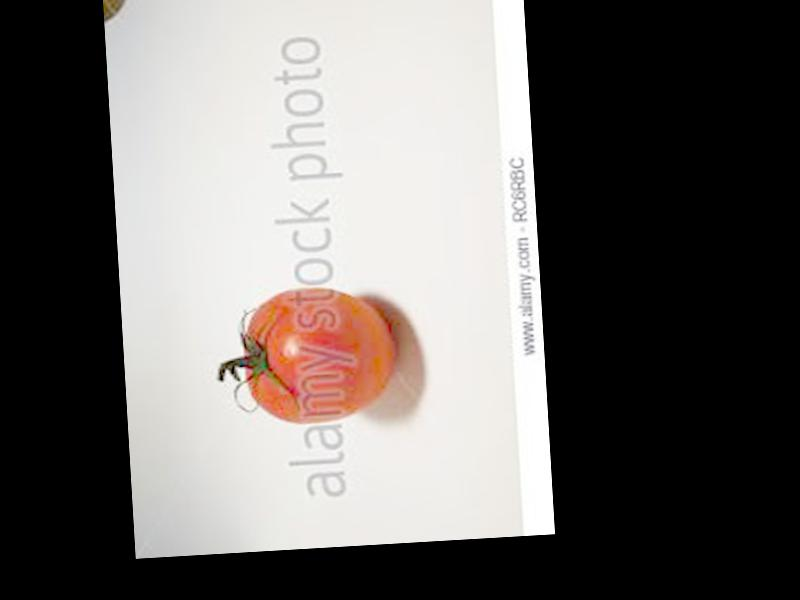Tomato: (238, 282, 397, 427)
